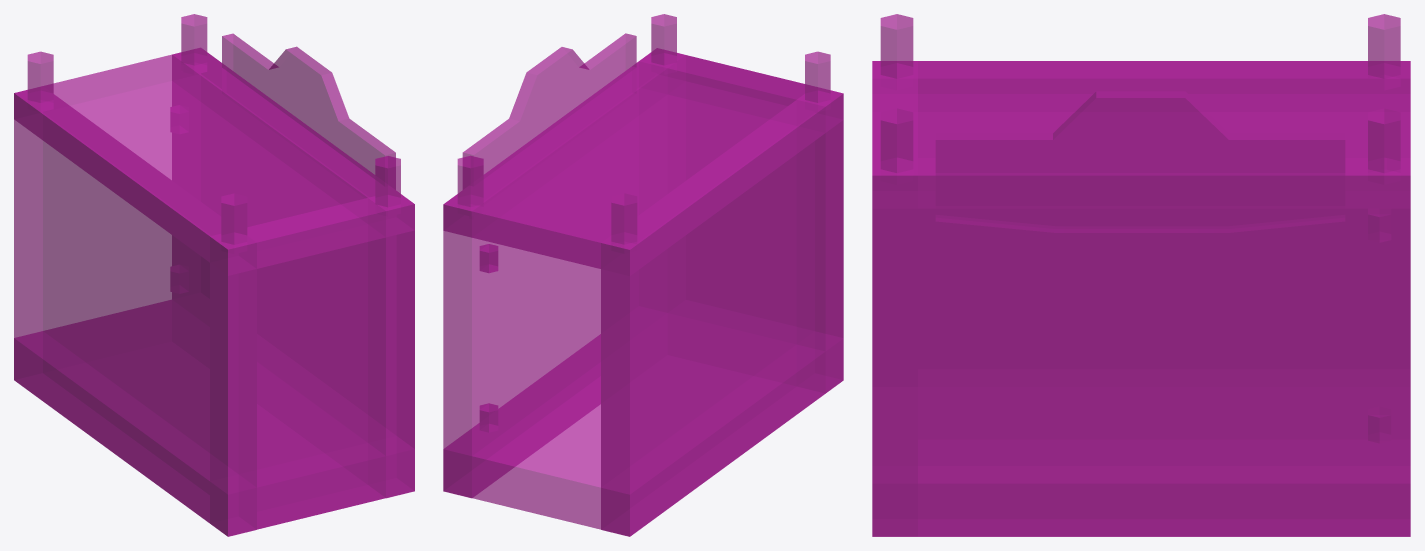
File: SM_Veh_Wagon_Cage_01_Collision.fbx
The picture shows the model from 3 angles, left to right: view 1: azimuth 30°, elevation 25°; view 2: azimuth 150°, elevation 25°; view 3: azimuth 270°, elevation 25°; orthographic projection. The views are drawn at different scales.
Visible parts, largest first — view 1: SM_Veh_Wagon_Cage_01_Collision; view 2: SM_Veh_Wagon_Cage_01_Collision; view 3: SM_Veh_Wagon_Cage_01_Collision.
Boxes of the visible parts, left/top/right/bottom form: SM_Veh_Wagon_Cage_01_Collision: left=14, top=14, right=414, bottom=536; SM_Veh_Wagon_Cage_01_Collision: left=443, top=14, right=843, bottom=536; SM_Veh_Wagon_Cage_01_Collision: left=872, top=14, right=1410, bottom=536.
Bounding box in the file's own units: 210 × 365 × 402.
